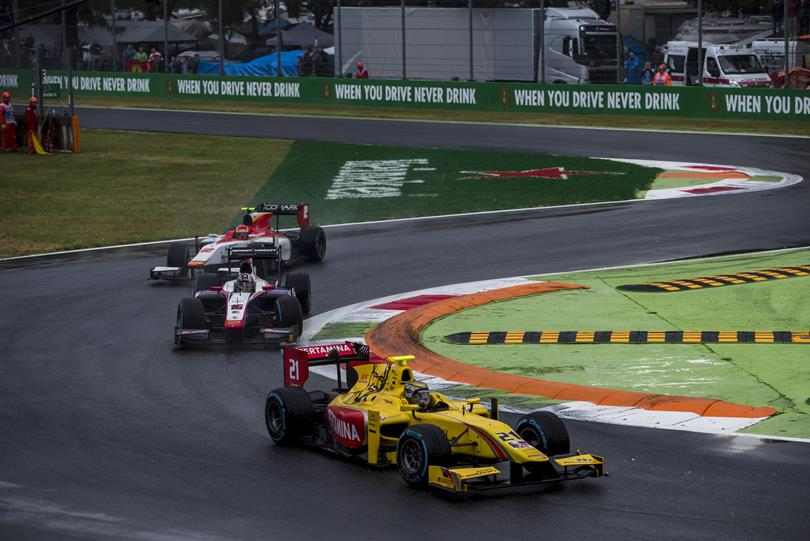race car: (261, 339, 611, 507), (144, 197, 327, 289), (171, 245, 316, 357)
